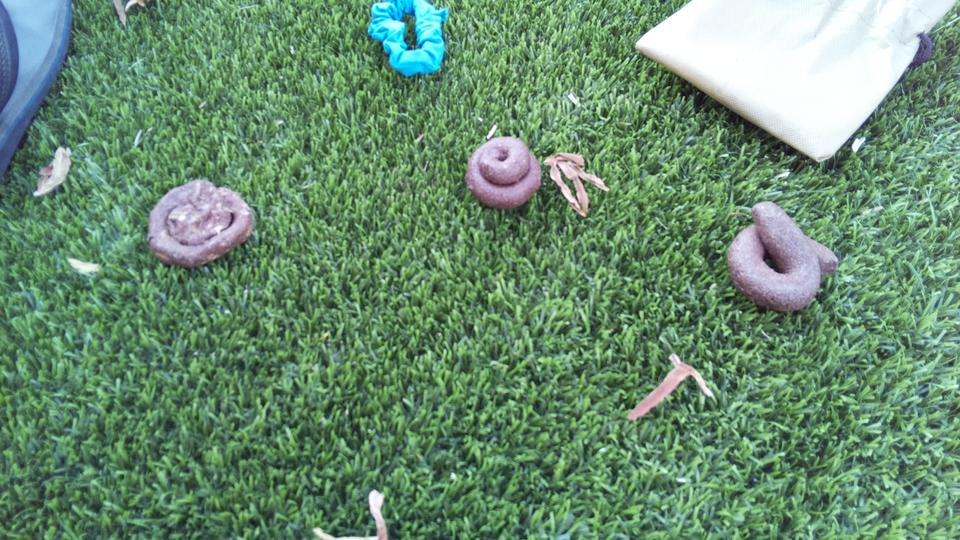poop: (719, 190, 841, 318), (139, 173, 257, 272), (461, 134, 546, 211)
